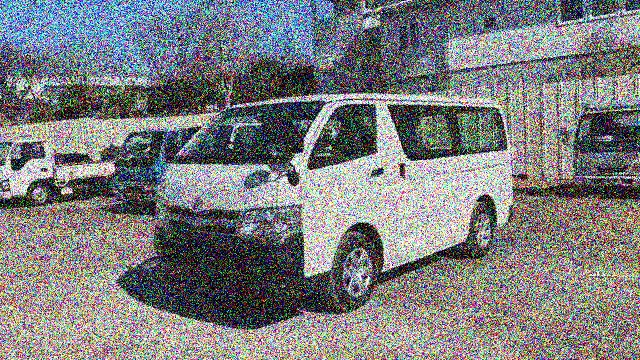van: (152, 95, 516, 293)
